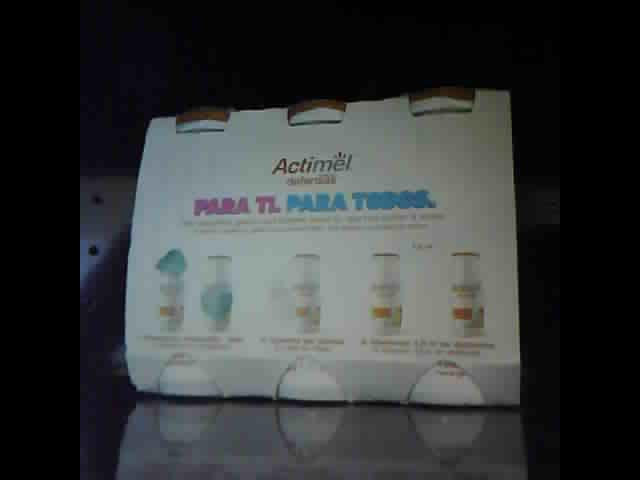actimel: (123, 87, 522, 405)
